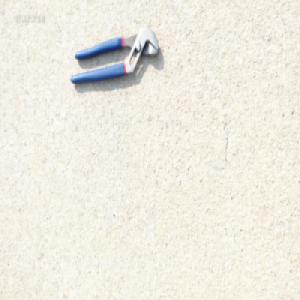Pliers: (69, 24, 160, 85)
